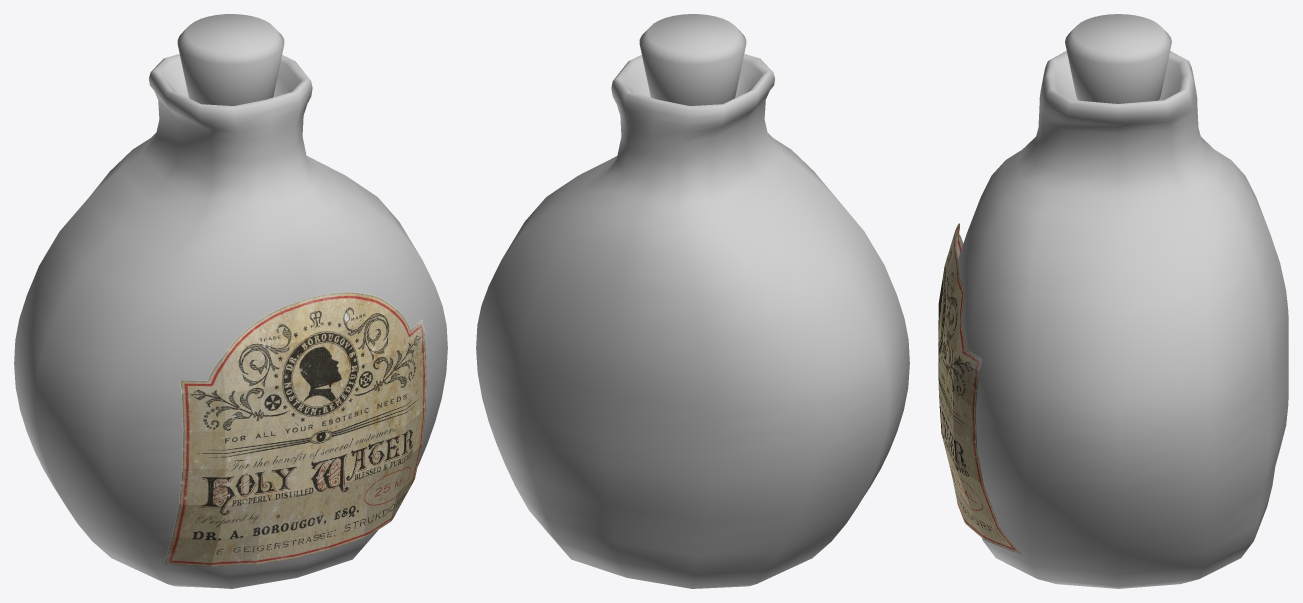
The model's file is helig vand.obj.
The picture shows the model from 3 angles, left to right: view 1: azimuth 30°, elevation 25°; view 2: azimuth 150°, elevation 25°; view 3: azimuth 270°, elevation 25°; orthographic projection.
Visible parts, largest first — view 1: Cube.001, Empty.001, Cylinder; view 2: Cube.001, Cylinder; view 3: Cube.001, Empty.001, Cylinder.
Part boxes in pixels (box(x1,y1,x2,y2)): Cube.001: box(14, 54, 447, 588); Empty.001: box(164, 292, 426, 567); Cylinder: box(177, 14, 284, 105); Cube.001: box(476, 54, 909, 588); Cylinder: box(639, 14, 746, 105); Cube.001: box(958, 51, 1288, 588); Empty.001: box(938, 223, 1021, 554); Cylinder: box(1065, 14, 1171, 103).
Size of the model in its own units: 3.76 by 4.76 by 2.91.
Materials: 3 (1 with a texture image).
